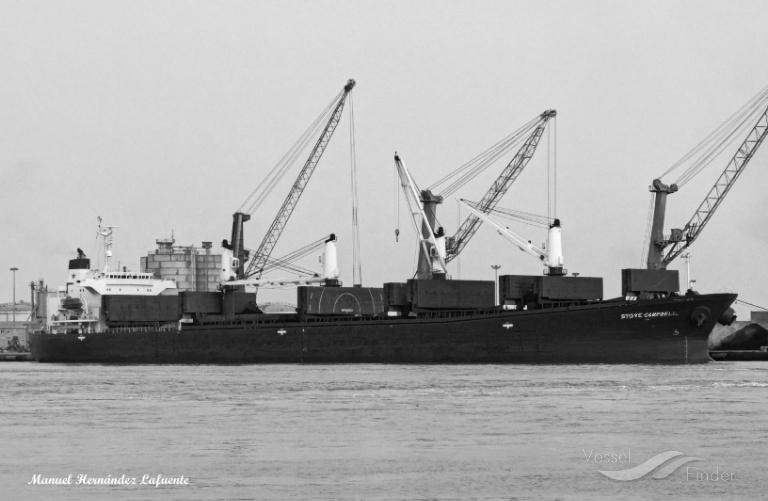OCR: (617, 301, 679, 324)
